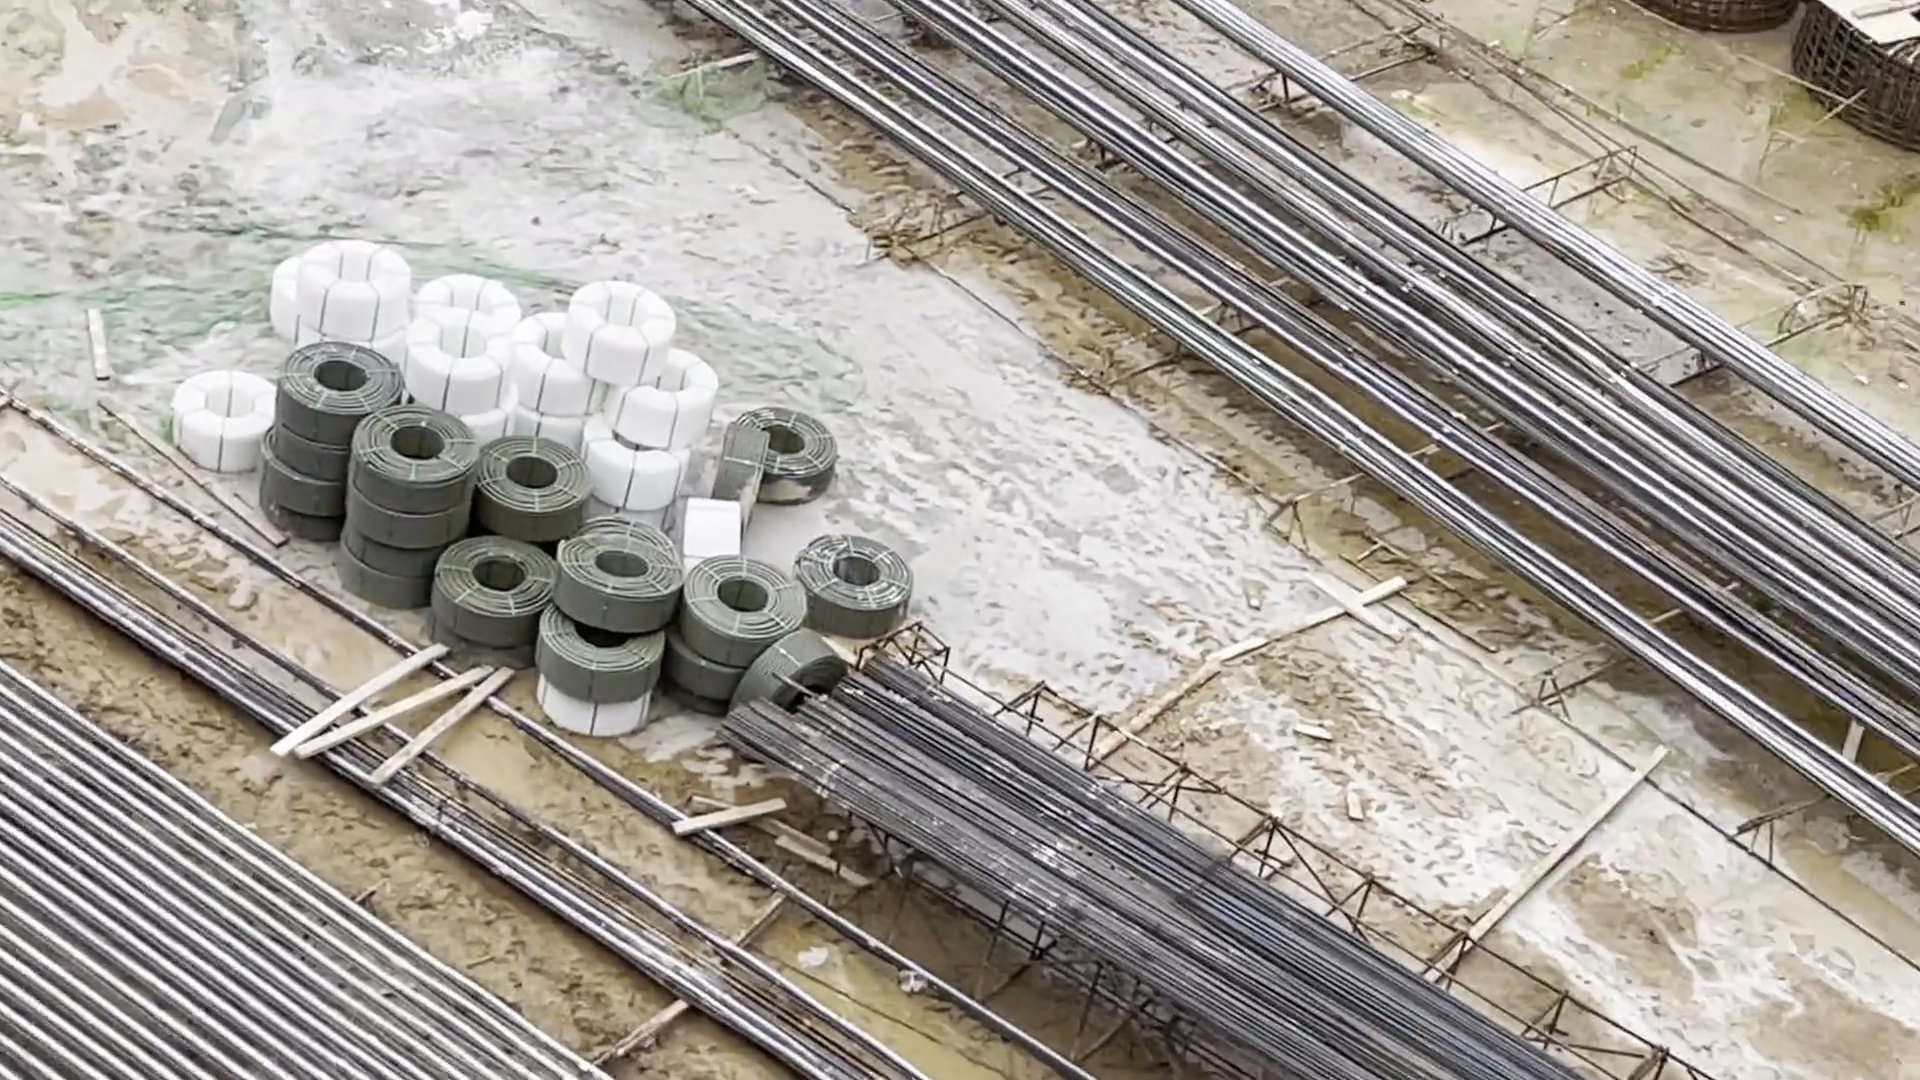rebar: (914, 32, 1920, 600), (786, 626, 1602, 1079)
